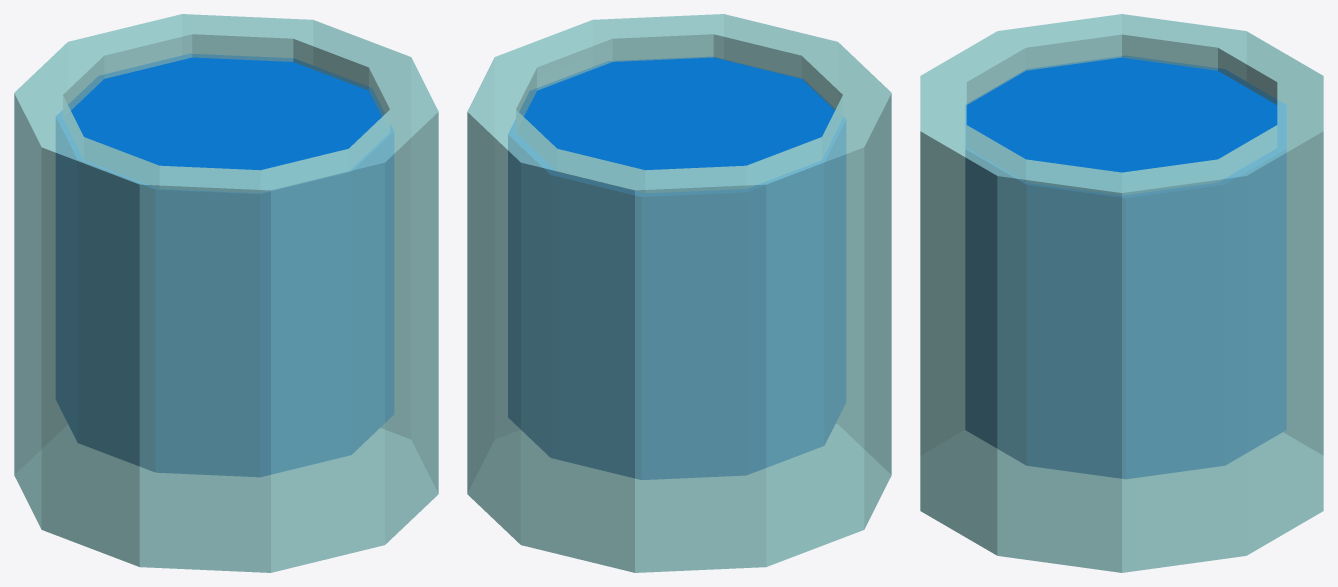
File: Copo VIDA.fbx
3 views of the same model, side by side, from view 1: azimuth 30°, elevation 25°; view 2: azimuth 150°, elevation 25°; view 3: azimuth 270°, elevation 25° (orthographic).
Visible parts, largest first — view 1: pCylinder3; view 2: pCylinder3; view 3: pCylinder3.
Part boxes in pixels (x1,y1,x2,y2): pCylinder3: (14, 14, 438, 572); pCylinder3: (467, 14, 891, 572); pCylinder3: (920, 14, 1323, 572).
Bounding box in the file's own units: 2 × 1.98 × 1.9.
